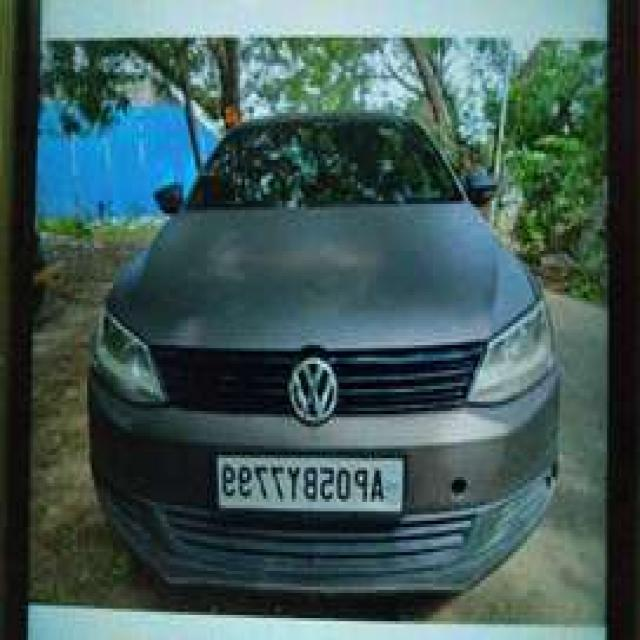license_plate: (209, 447, 412, 522)
